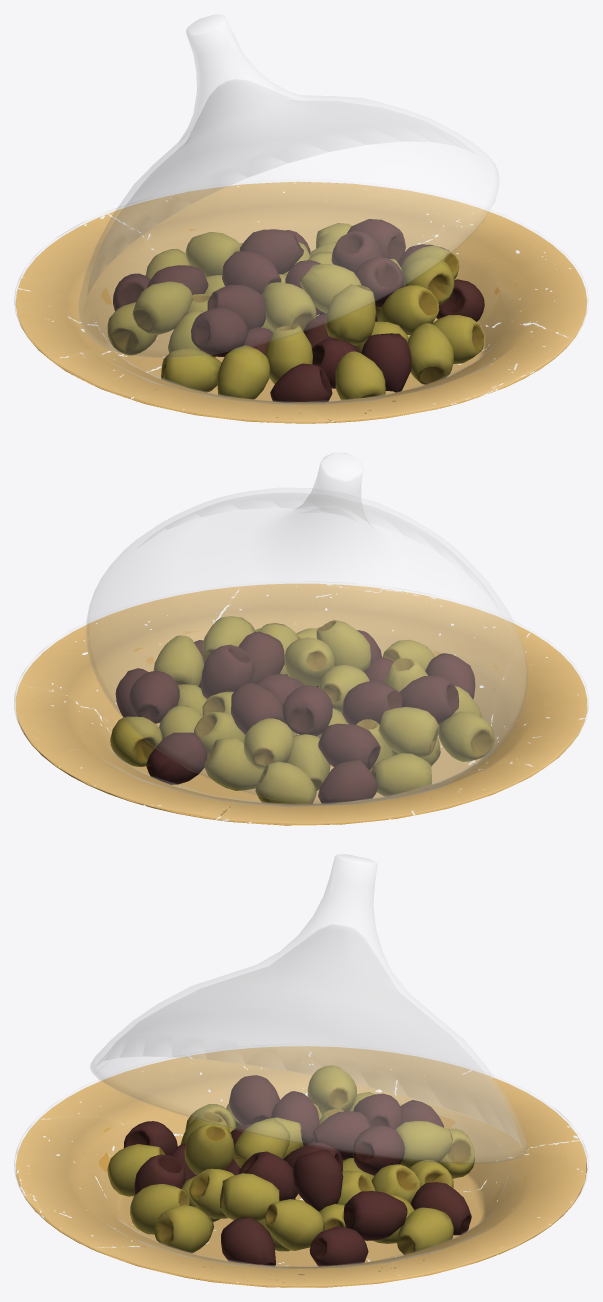
The model's file is salad_achichuk.glb.
3 views of the same model, one above another, from view 1: azimuth 30°, elevation 25°; view 2: azimuth 150°, elevation 25°; view 3: azimuth 270°, elevation 25° (orthographic).
Parts seen in each view (by area): view 1: glassCover, goldLeaf, glassDish, olives; view 2: glassCover, glassDish, goldLeaf, olives; view 3: glassCover, goldLeaf, olives, glassDish.
Part boxes in pixels (x1,y1,x2,y2): glassCover: [78, 14, 499, 358]; goldLeaf: [15, 181, 587, 423]; glassDish: [14, 180, 588, 421]; olives: [107, 219, 484, 402]; glassCover: [86, 452, 527, 805]; glassDish: [14, 581, 588, 823]; goldLeaf: [15, 583, 587, 825]; olives: [110, 616, 494, 804]; glassCover: [90, 854, 527, 1163]; goldLeaf: [15, 1046, 587, 1287]; olives: [107, 1065, 474, 1266]; glassDish: [14, 1057, 588, 1286].
Size of the model in its own units: 0.1726 by 0.1072 by 0.1726.
Materials: 4 (2 with a texture image).
